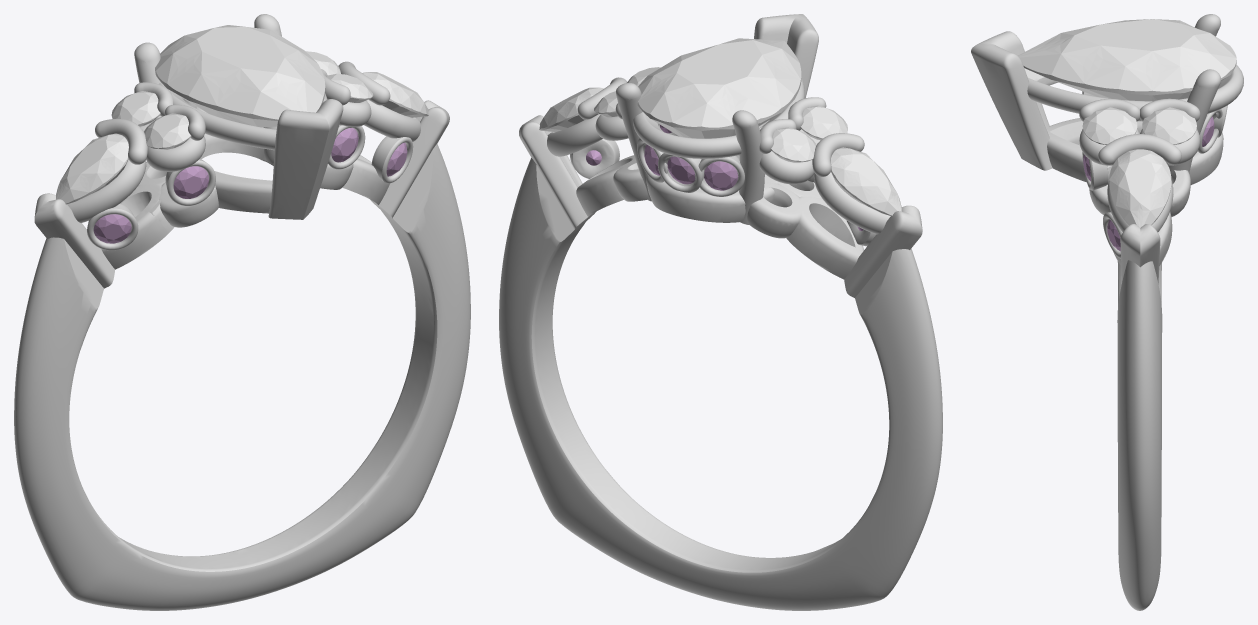
Rendered from ChrisVringv1.glb.
The picture shows the model from 3 angles, left to right: view 1: azimuth 30°, elevation 25°; view 2: azimuth 150°, elevation 25°; view 3: azimuth 270°, elevation 25°; orthographic projection. The views are drawn at different scales.
Parts seen in each view (by area): view 1: Chris PT for 3d model, Chris dia for 3d model.001, Chris dia for 3d model.002, Chris dia for 3d model.005, Chris dia for 3d model, Chris dia for 3d model.006, Chris sapphire for 3d model.002, Chris sapphire for 3d model.006, Chris sapphire for 3d model, Chris dia for 3d model.003; view 2: Chris PT for 3d model, Chris dia for 3d model.001, Chris dia for 3d model.002, Chris dia for 3d model, Chris dia for 3d model.006, Chris dia for 3d model.005, Chris sapphire for 3d model.003; view 3: Chris PT for 3d model, Chris dia for 3d model.001, Chris dia for 3d model, Chris dia for 3d model.003, Chris dia for 3d model.004.
Boxes of the visible parts, x1,y1,x2,y2 form: Chris PT for 3d model: (14,14,470,610); Chris dia for 3d model.001: (155,25,325,127); Chris dia for 3d model.002: (56,133,128,204); Chris dia for 3d model.005: (144,113,191,149); Chris dia for 3d model: (362,72,428,117); Chris dia for 3d model.006: (111,91,160,126); Chris sapphire for 3d model.002: (173,166,208,198); Chris sapphire for 3d model.006: (93,214,131,243); Chris sapphire for 3d model: (331,128,358,162); Chris dia for 3d model.003: (326,73,373,102); Chris PT for 3d model: (499,14,942,610); Chris dia for 3d model.001: (637,38,801,138); Chris dia for 3d model.002: (831,147,901,216); Chris dia for 3d model: (539,87,603,132); Chris dia for 3d model.006: (770,127,816,162); Chris dia for 3d model.005: (800,105,847,140); Chris sapphire for 3d model.003: (704,161,738,190); Chris PT for 3d model: (971,14,1243,610); Chris dia for 3d model.001: (1018,19,1236,101); Chris dia for 3d model: (1109,149,1171,227); Chris dia for 3d model.003: (1082,107,1137,144); Chris dia for 3d model.004: (1142,107,1196,144).
Size of the model in its own units: 20.5 by 23.8 by 10.98.
